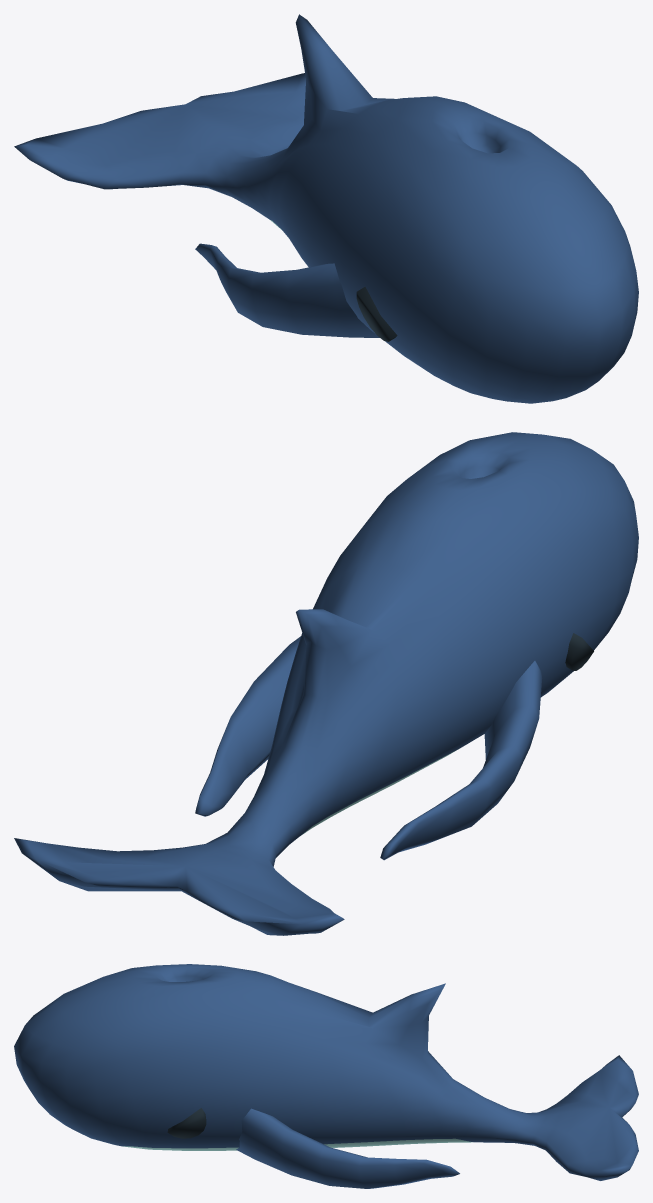
Rendered from Whale.fbx.
The picture shows the model from 3 angles, top to bottom: view 1: azimuth 30°, elevation 25°; view 2: azimuth 150°, elevation 25°; view 3: azimuth 270°, elevation 25°; orthographic projection. The views are drawn at different scales.
Visible parts, largest first — view 1: Whale; view 2: Whale; view 3: Whale.
Boxes of the visible parts, x1,y1,x2,y2 form: Whale: (14, 14, 638, 403); Whale: (14, 432, 638, 935); Whale: (14, 964, 638, 1188).
Size of the model in its own units: 375 by 272 by 857.
